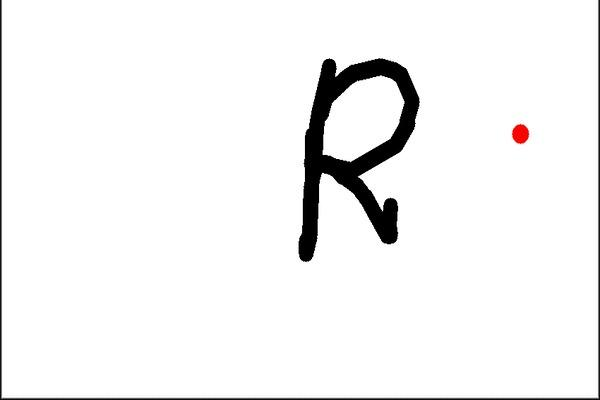R: (288, 54, 418, 265)
